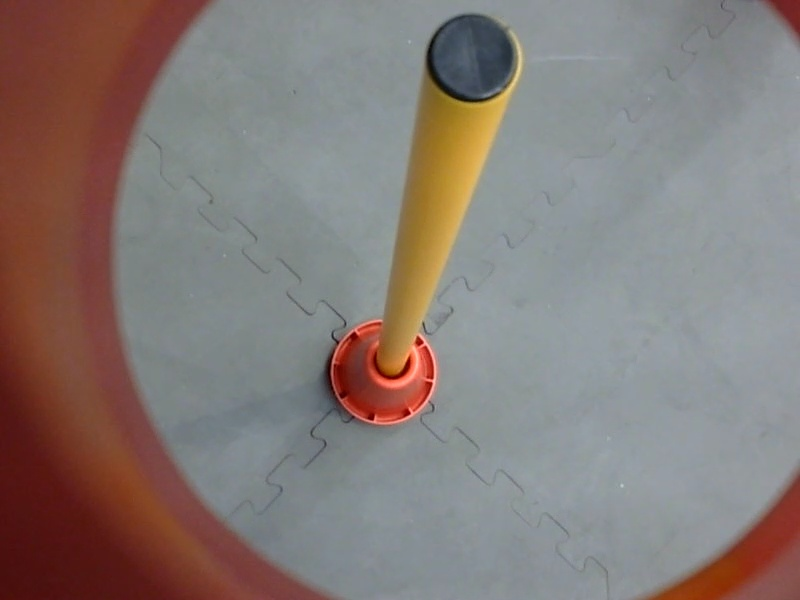tip: (416, 8, 528, 113)
